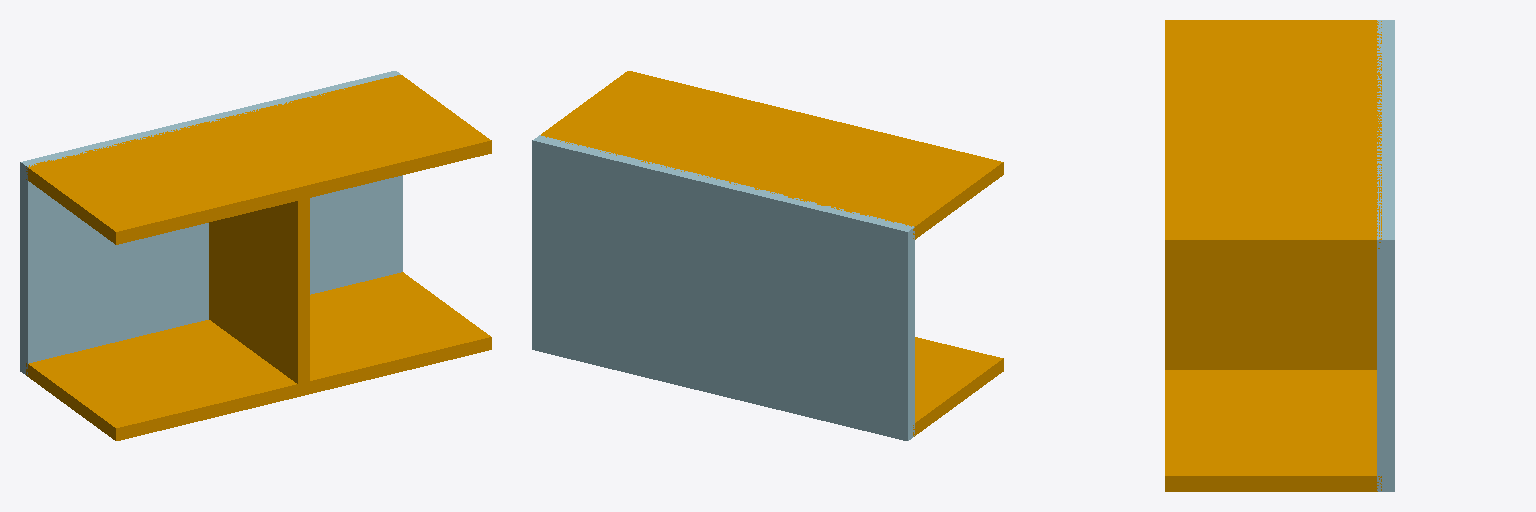
URDF robot description (shelf.urdf):
<?xml version="1.0" ?>
<robot name="shelf.urdf">
  <!-- <material name="Caramel">
    <color rgba=".95 .8 .54 1"/>
  </material> -->
  <material name="Glass">
    <color rgba=".66 .8 .84 .4"/>
  </material>
  <link name="baseLink">
    <contact>
      <lateral_friction value="1.0"/>
    </contact>
    <inertial>
      <origin rpy="0 0 0" xyz="0 0 0"/>
      <mass value=".0"/>
      <inertia ixx="1" ixy="0" ixz="0" iyy="1" iyz="0" izz="1"/>
    </inertial>

    <visual>
      <origin rpy="0 0 0" xyz="0 .13 0"/>
      <geometry>
				<box size=".6 .02 .32"/>
      </geometry>
      <material name="Glass"/>
    </visual>
    <collision>
      <origin rpy="0 0 0" xyz="0 .13 0"/>
      <geometry>
				<box size=".6 .02 .32"/>
      </geometry>
    </collision>

    <!-- vertical slabs -->
    <visual>
      <origin rpy="0 0 0" xyz="0 0 0"/>
      <geometry>
				<box size=".02 .25 .32"/>
      </geometry>
      <material name="Caramel"/>
    </visual>
    <collision>
      <origin rpy="0 0 0" xyz="0 0 0"/>
      <geometry>
				<box size=".02 .25 .32"/>
      </geometry>
    </collision>

    <!-- horizontal slabs -->
    <visual>
      <origin rpy="0 0 0" xyz="0 0 .15"/>
      <geometry>
				<box size=".6 .25 .02"/>
      </geometry>
      <material name="Caramel"/>
    </visual>
    <collision>
      <origin rpy="0 0 0" xyz="0 0 .15"/>
      <geometry>
				<box size=".6 .25 .02"/>
      </geometry>
    </collision>

    <visual>
      <origin rpy="0 0 0" xyz="0 0 -.15"/>
      <geometry>
				<box size=".6 .25 .02"/>
      </geometry>
      <material name="Caramel"/>
    </visual>
    <collision>
      <origin rpy="0 0 0" xyz="0 0 -.15"/>
      <geometry>
				<box size=".6 .25 .02"/>
      </geometry>
    </collision>
  </link>
</robot>

--- Facts derived from the render (not from the file) ---
3 views of the same robot in one strip: view 1: azimuth 30°, elevation 25°; view 2: azimuth 150°, elevation 25°; view 3: azimuth 270°, elevation 25° (orthographic).
Robot: shelf.urdf — 1 links, 0 joints (none); root link baseLink; default pose: all joints at 0.
Links seen in each view (by area): view 1: baseLink; view 2: baseLink; view 3: baseLink.
Link boxes in pixels (x1,y1,x2,y2): baseLink: [20, 71, 491, 440]; baseLink: [532, 71, 1003, 440]; baseLink: [1165, 20, 1394, 491].
Bounding box of the posed robot: 0.6 × 0.265 × 0.32 m (x, y, z).
Geometry: primitives only (box / cylinder / sphere), no mesh files.